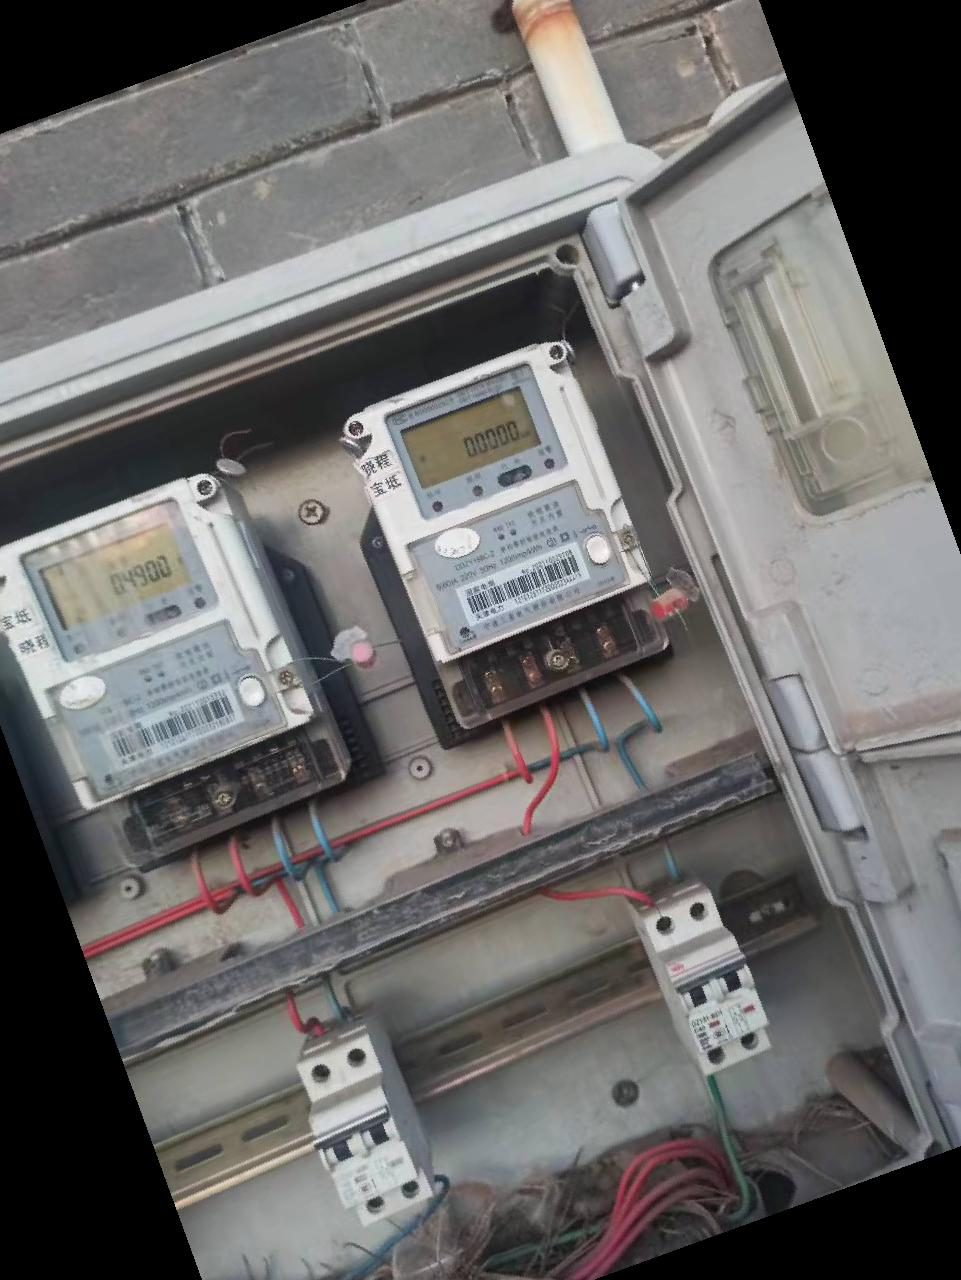digital: (1, 474, 310, 811), (345, 342, 645, 665)
